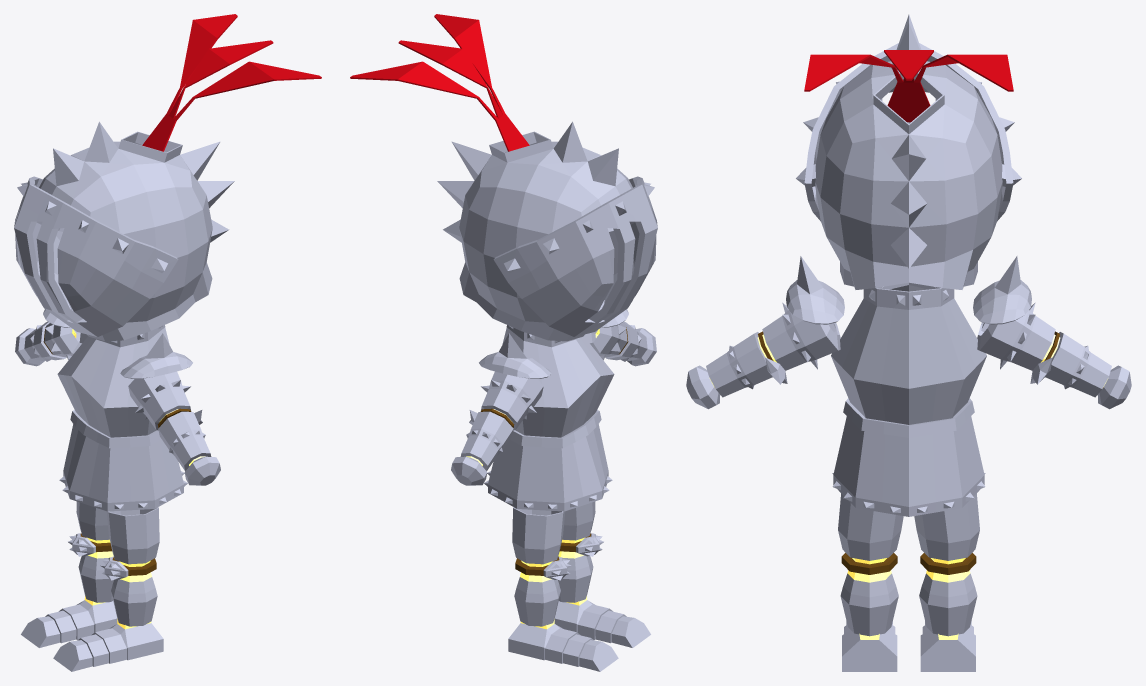
Rendered from SnapsalotProto.glb.
3 renders of one model, left to right at view 1: azimuth 30°, elevation 25°; view 2: azimuth 150°, elevation 25°; view 3: azimuth 270°, elevation 25°, orthographic. The views are drawn at different scales.
Visible parts, largest first — view 1: PlayerHead, PlayerBody, PlayerHeadVisor, PlayerArm, PlayerLeg, PlayerShoes, PlayerHeadPlume; view 2: PlayerHead, PlayerBody, PlayerHeadVisor, PlayerArm, PlayerLeg, PlayerShoes, PlayerHeadPlume; view 3: PlayerHead, PlayerBody, PlayerArm, PlayerLeg, PlayerHeadPlume, PlayerShoes, PlayerHeadVisor.
Part boxes in pixels (x1,y1,x2,y2): PlayerHead: [39, 121, 234, 341]; PlayerBody: [57, 325, 187, 511]; PlayerHeadVisor: [14, 176, 178, 336]; PlayerArm: [15, 300, 220, 485]; PlayerLeg: [68, 501, 159, 626]; PlayerShoes: [21, 596, 163, 671]; PlayerHeadPlume: [142, 14, 321, 151]; PlayerHead: [437, 121, 632, 341]; PlayerBody: [484, 325, 614, 511]; PlayerHeadVisor: [493, 176, 657, 336]; PlayerArm: [451, 300, 656, 485]; PlayerLeg: [512, 501, 603, 626]; PlayerShoes: [508, 596, 650, 671]; PlayerHeadPlume: [350, 14, 529, 151]; PlayerHead: [815, 14, 1002, 289]; PlayerBody: [831, 282, 986, 516]; PlayerArm: [686, 256, 1131, 409]; PlayerLeg: [838, 493, 979, 636]; PlayerHeadPlume: [804, 50, 1013, 122]; PlayerShoes: [842, 621, 975, 671]; PlayerHeadVisor: [796, 43, 1021, 221].
Bounding box in the file's own units: 0.9401 × 1.89 × 1.13.
